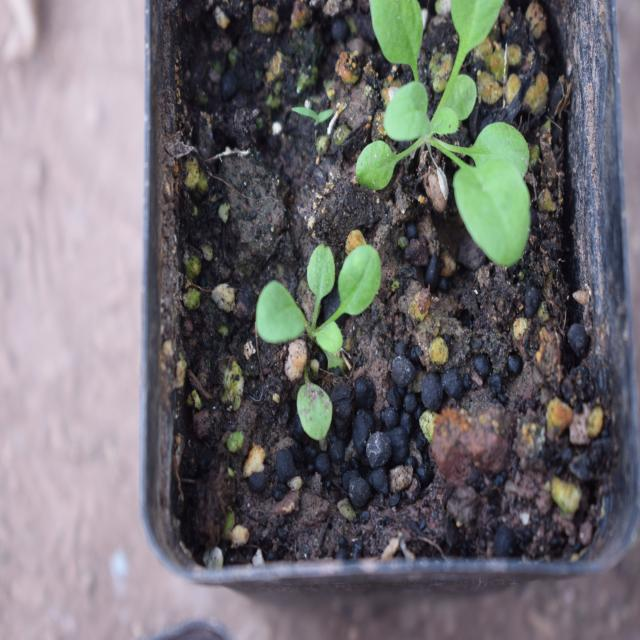Shepherd_Purse: (347, 0, 549, 270), (241, 234, 392, 444)
